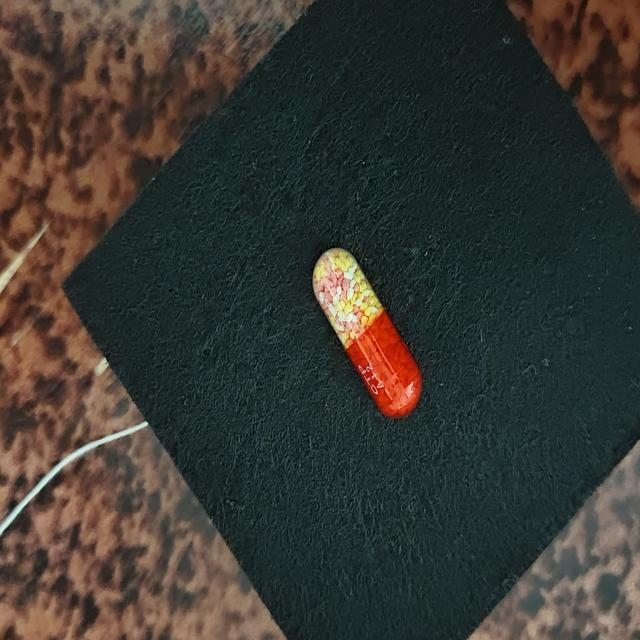Intact Capsule: (312, 248, 422, 418)
